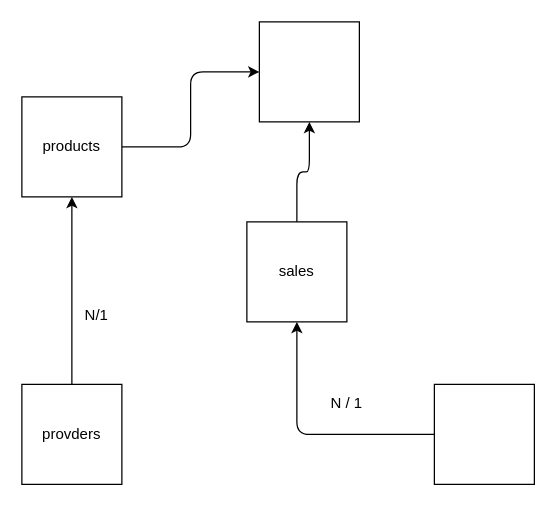
This 556x506 diagram has some shape labels left out. Each missing label, with the centre of its shape:
clients: pixel 483 433
product_sale: pixel 308 71
